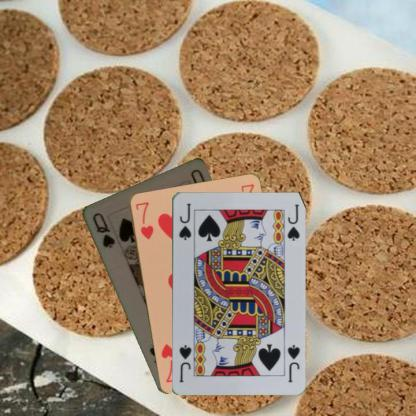7h: (132, 198, 154, 240)
Js: (284, 341, 301, 384), (176, 200, 192, 241)
Qs: (90, 209, 116, 250)
